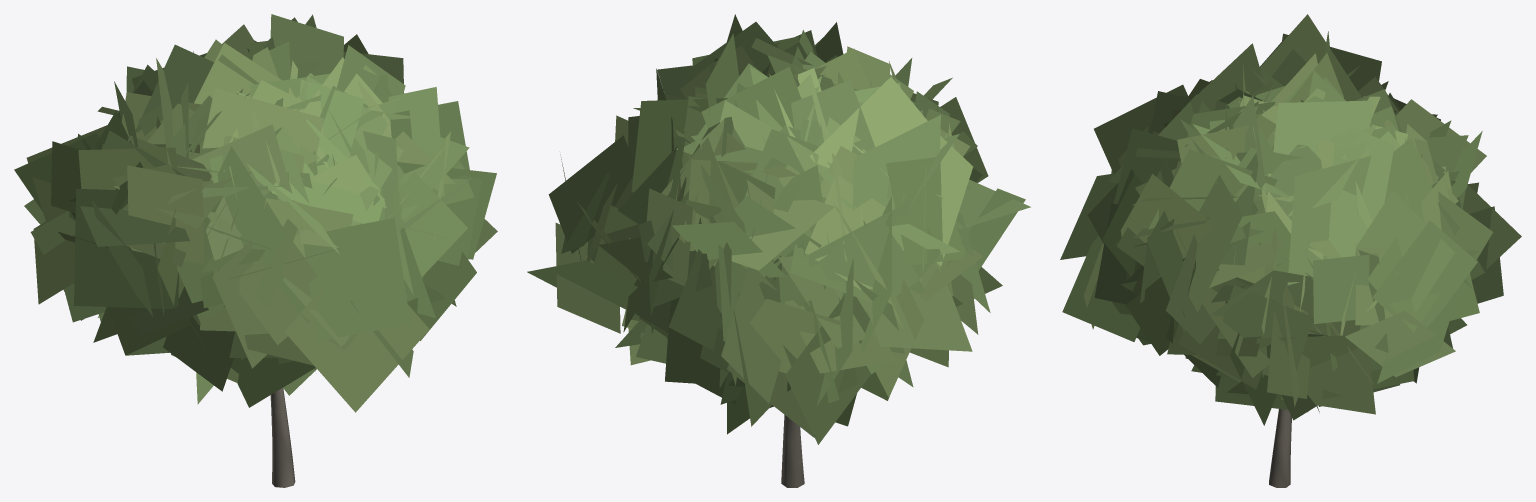
File: ash_1.glb
The picture shows the model from 3 angles, left to right: view 1: azimuth 30°, elevation 25°; view 2: azimuth 150°, elevation 25°; view 3: azimuth 270°, elevation 25°; orthographic projection. The views are drawn at different scales.
Parts seen in each view (by area): view 1: ash_1; view 2: ash_1; view 3: ash_1.
Part boxes in pixels (x1,y1,x2,y2): ash_1: [14, 14, 497, 487]; ash_1: [527, 14, 1030, 487]; ash_1: [1060, 14, 1521, 487].
Size of the model in its own units: 0.9253 by 1 by 1.
